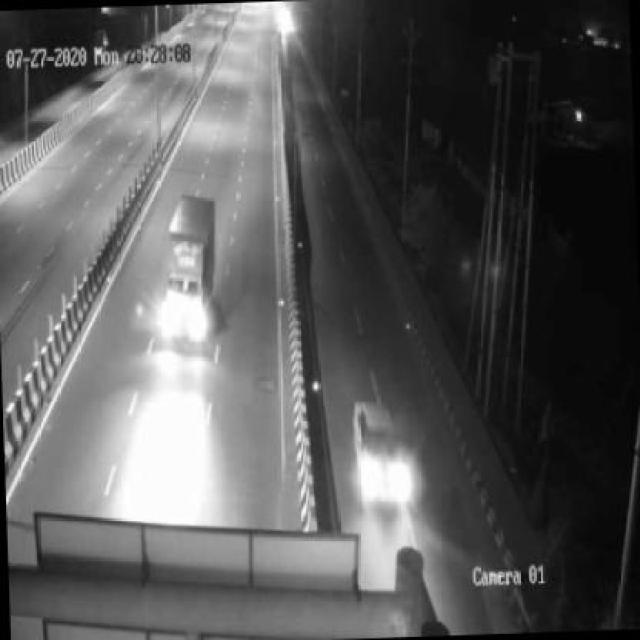car: (346, 392, 414, 500)
